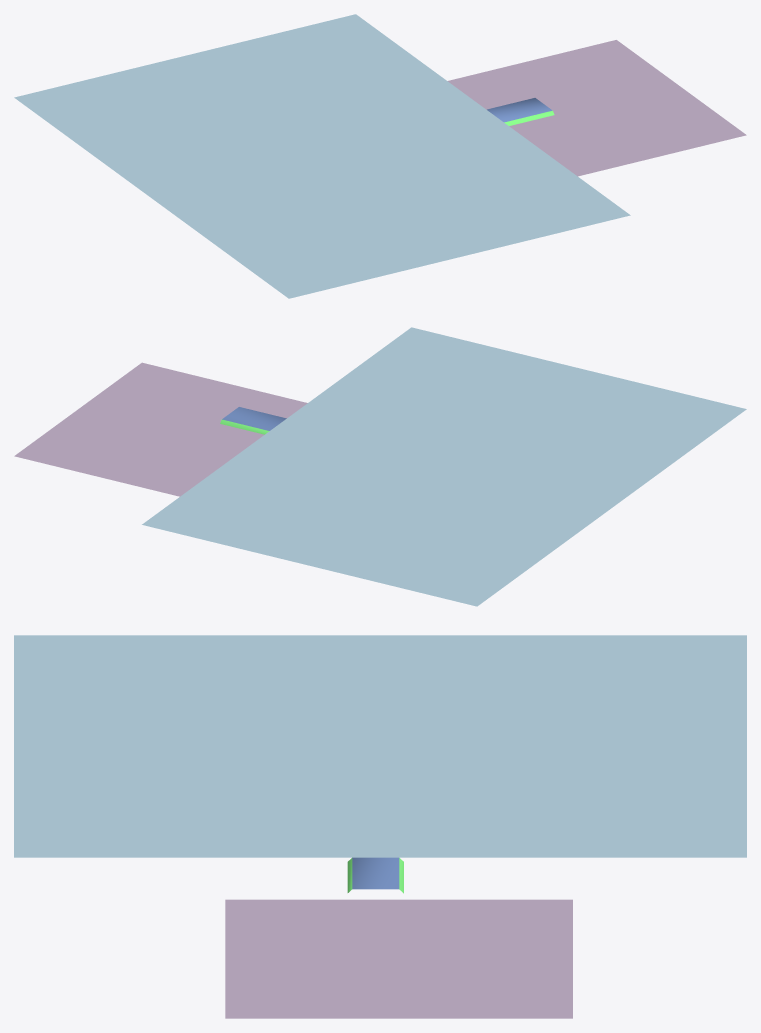
Rendered from space_station.gltf.
3 renders of one model, top to bottom at view 1: azimuth 30°, elevation 25°; view 2: azimuth 150°, elevation 25°; view 3: azimuth 270°, elevation 25°, orthographic. The views are drawn at different scales.
Visible parts, largest first — view 1: space_station; view 2: space_station; view 3: space_station.
Boxes of the visible parts, box(x1,y1,x2,y2) form: space_station: box(14, 14, 746, 298); space_station: box(14, 327, 746, 606); space_station: box(14, 635, 746, 1018).
Bounding box in the file's own units: 22 × 1 × 19.5.
1 material, 1 textured.
